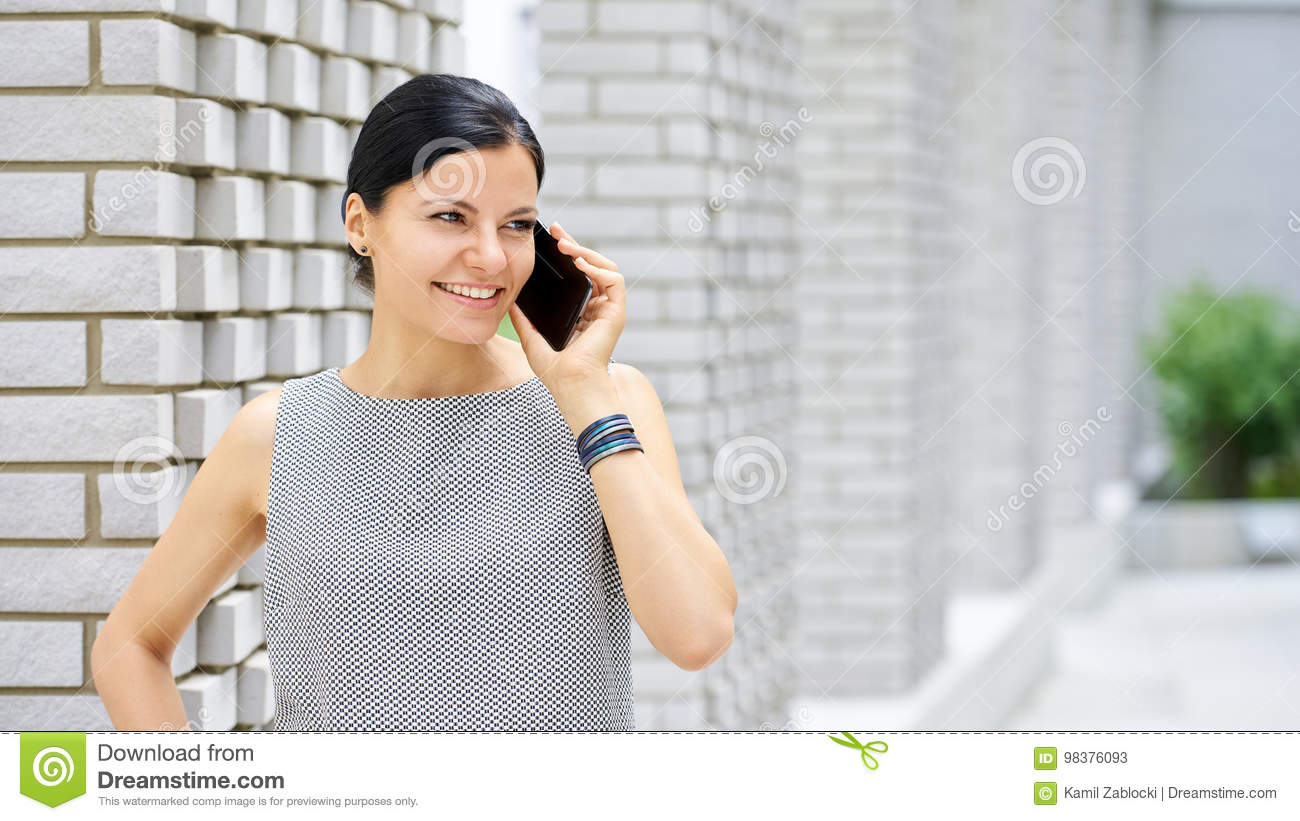phone: (520, 222, 596, 355)
talk: (399, 187, 630, 413)
